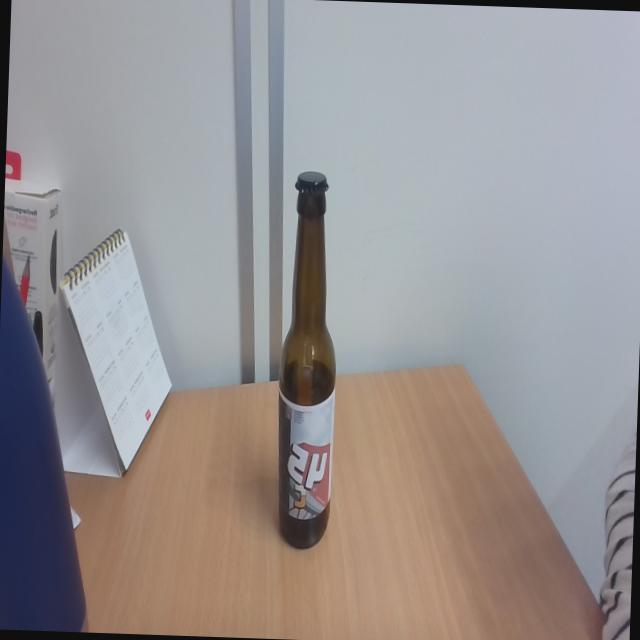Bottle: (272, 166, 344, 552)
Cap: (291, 166, 331, 198)
Label: (276, 397, 336, 522)
